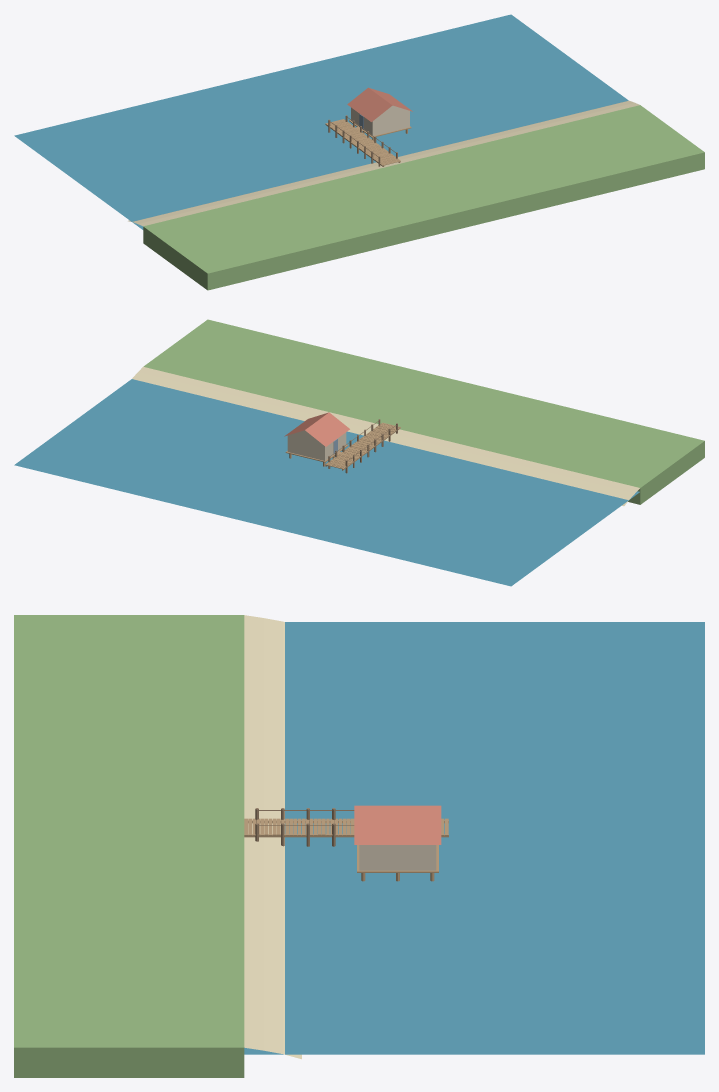
The model's file is truce_pier.glb.
3 renders of one model, top to bottom at view 1: azimuth 30°, elevation 25°; view 2: azimuth 150°, elevation 25°; view 3: azimuth 270°, elevation 25°, orthographic. The views are drawn at different scales.
Parts seen in each view (by area): view 1: Water, Grass-col, Beach-col, PierDeck-col, BoathouseRoof, BoathouseWalls-col, PierPosts; view 2: Water, Grass-col, Beach-col, PierDeck-col, BoathouseRoof, BoathouseWalls-col, PierPosts; view 3: Water, Grass-col, Beach-col, BoathouseRoof, PierDeck-col, BoathouseWalls-col, PierPosts.
Part boxes in pixels (bbox=[...]): Water: bbox=[14, 14, 628, 229]; Grass-col: bbox=[143, 105, 704, 290]; Beach-col: bbox=[128, 100, 639, 226]; PierDeck-col: bbox=[325, 119, 400, 166]; BoathouseRoof: bbox=[347, 87, 412, 121]; BoathouseWalls-col: bbox=[351, 107, 409, 135]; PierPosts: bbox=[328, 115, 397, 166]; Water: bbox=[14, 379, 639, 586]; Grass-col: bbox=[143, 319, 704, 504]; Beach-col: bbox=[132, 366, 639, 506]; PierDeck-col: bbox=[325, 422, 400, 470]; BoathouseRoof: bbox=[284, 412, 349, 446]; BoathouseWalls-col: bbox=[287, 432, 346, 460]; PierPosts: bbox=[328, 419, 397, 473]; Water: bbox=[244, 622, 704, 1054]; Grass-col: bbox=[14, 615, 244, 1077]; Beach-col: bbox=[244, 615, 301, 1059]; BoathouseRoof: bbox=[354, 805, 441, 844]; PierDeck-col: bbox=[244, 818, 448, 837]; BoathouseWalls-col: bbox=[359, 845, 436, 870]; PierPosts: bbox=[255, 808, 354, 846].
Size of the model in its own units: 80 by 7.2 by 54.
